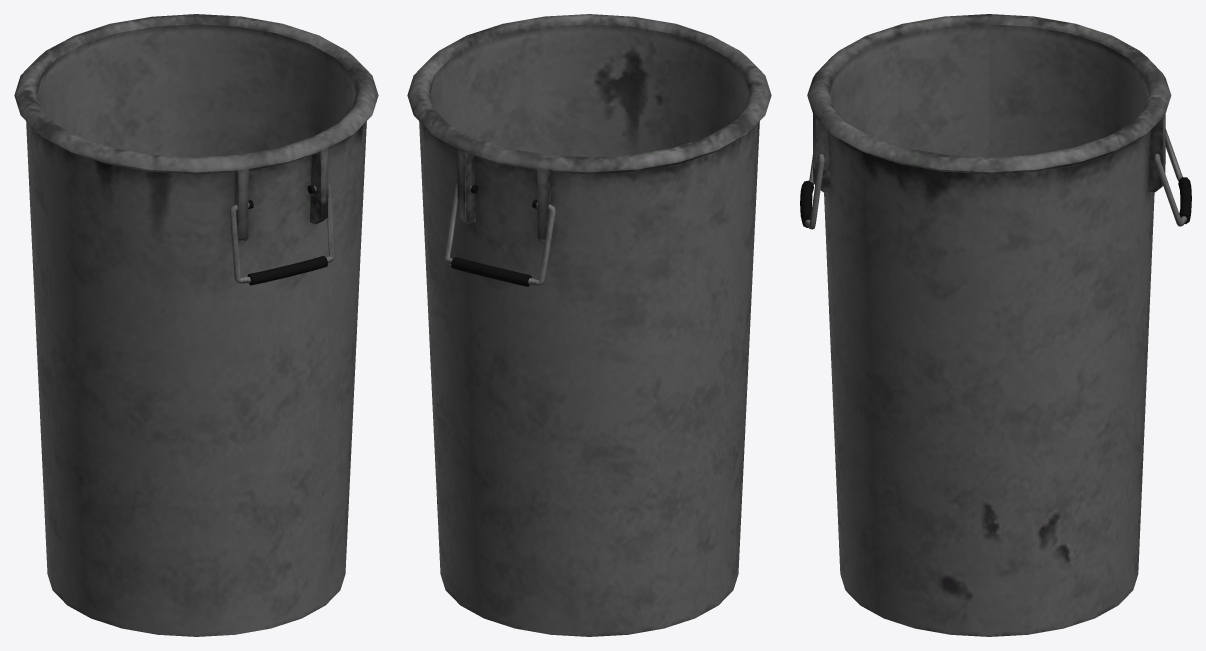
The model's file is trashBin01_black.FBX.
The picture shows the model from 3 angles, left to right: view 1: azimuth 30°, elevation 25°; view 2: azimuth 150°, elevation 25°; view 3: azimuth 270°, elevation 25°; orthographic projection.
Visible parts, largest first — view 1: SM_TrashBin; view 2: SM_TrashBin; view 3: SM_TrashBin.
Part boxes in pixels (x1,y1,x2,y2): SM_TrashBin: [14, 14, 378, 636]; SM_TrashBin: [407, 14, 771, 636]; SM_TrashBin: [800, 14, 1191, 636].
Size of the model in its own units: 60.45 by 89.14 by 65.04.
1 material, 1 textured.
